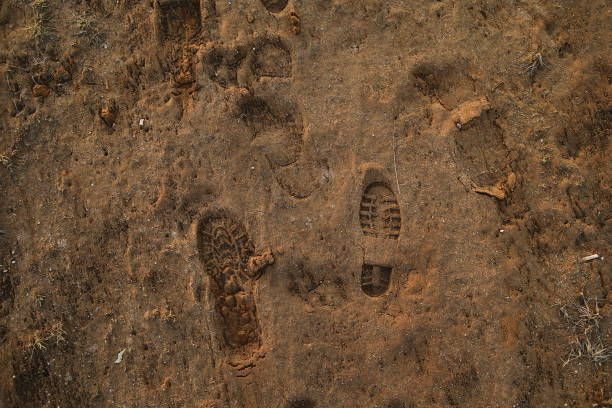human_footprint: (186, 200, 274, 378), (353, 168, 406, 298)
